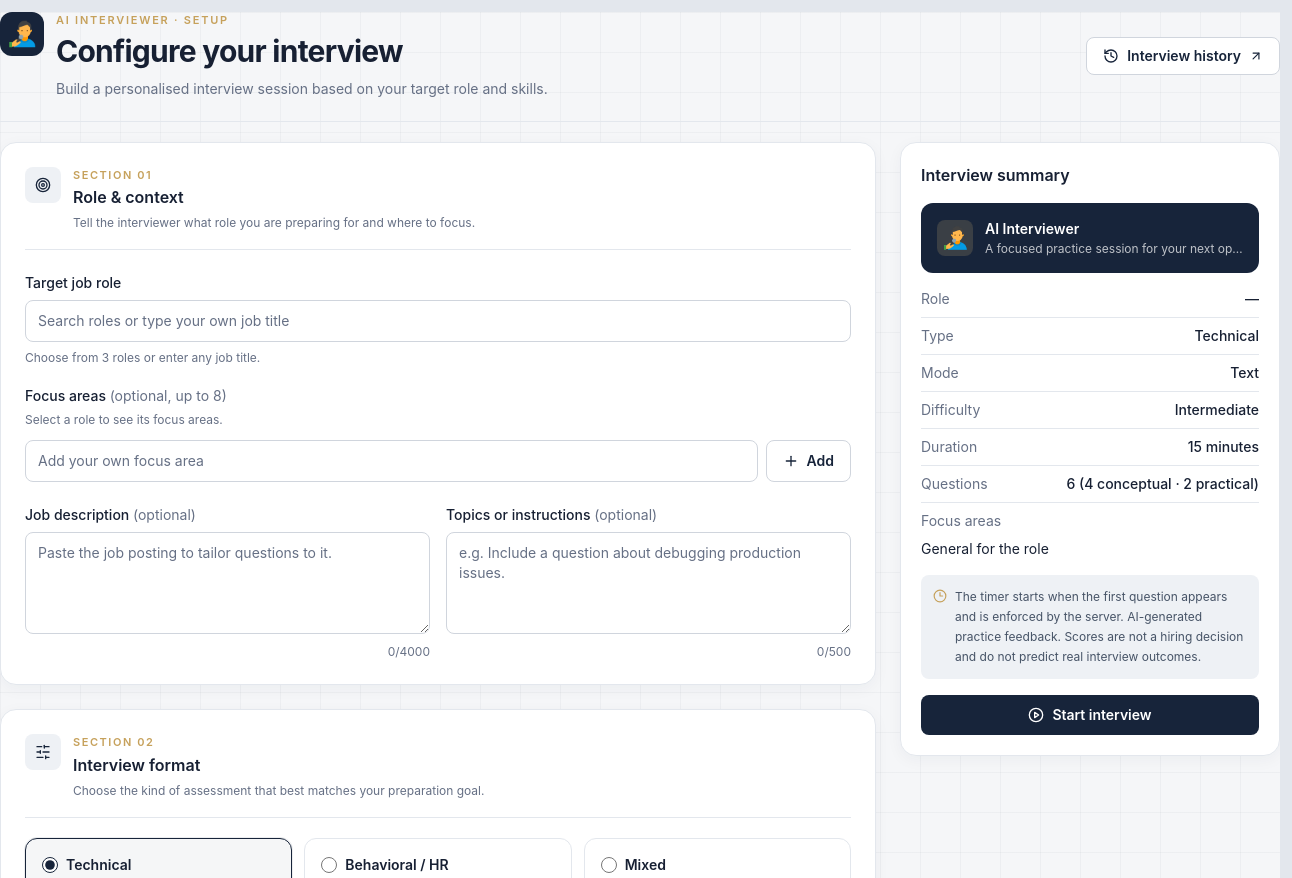
it: custom job titles are analysed on their own terms
The width and height of the screenshot is (1292, 878).
Type "Blockchain Developer" into the field labelled "Target job role" at (438, 321), box [25, 300, 851, 342]
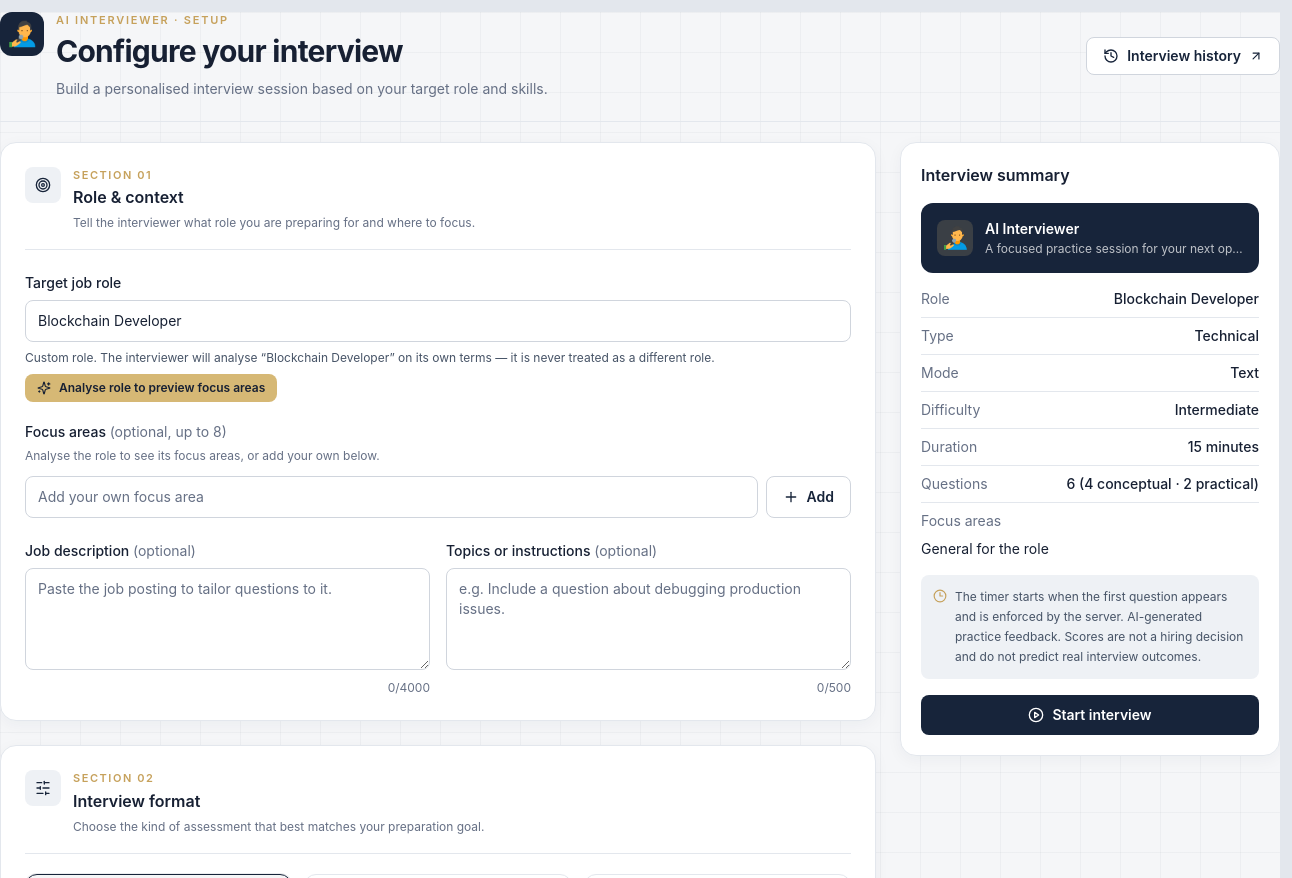
Check: the text "Custom role" is shown, box [25, 350, 266, 365]
Check: the text "never treated as a different role" is shown, box [389, 350, 715, 365]
Click the button "Analyse role to preview focus areas" at (151, 388), box [25, 374, 277, 402]
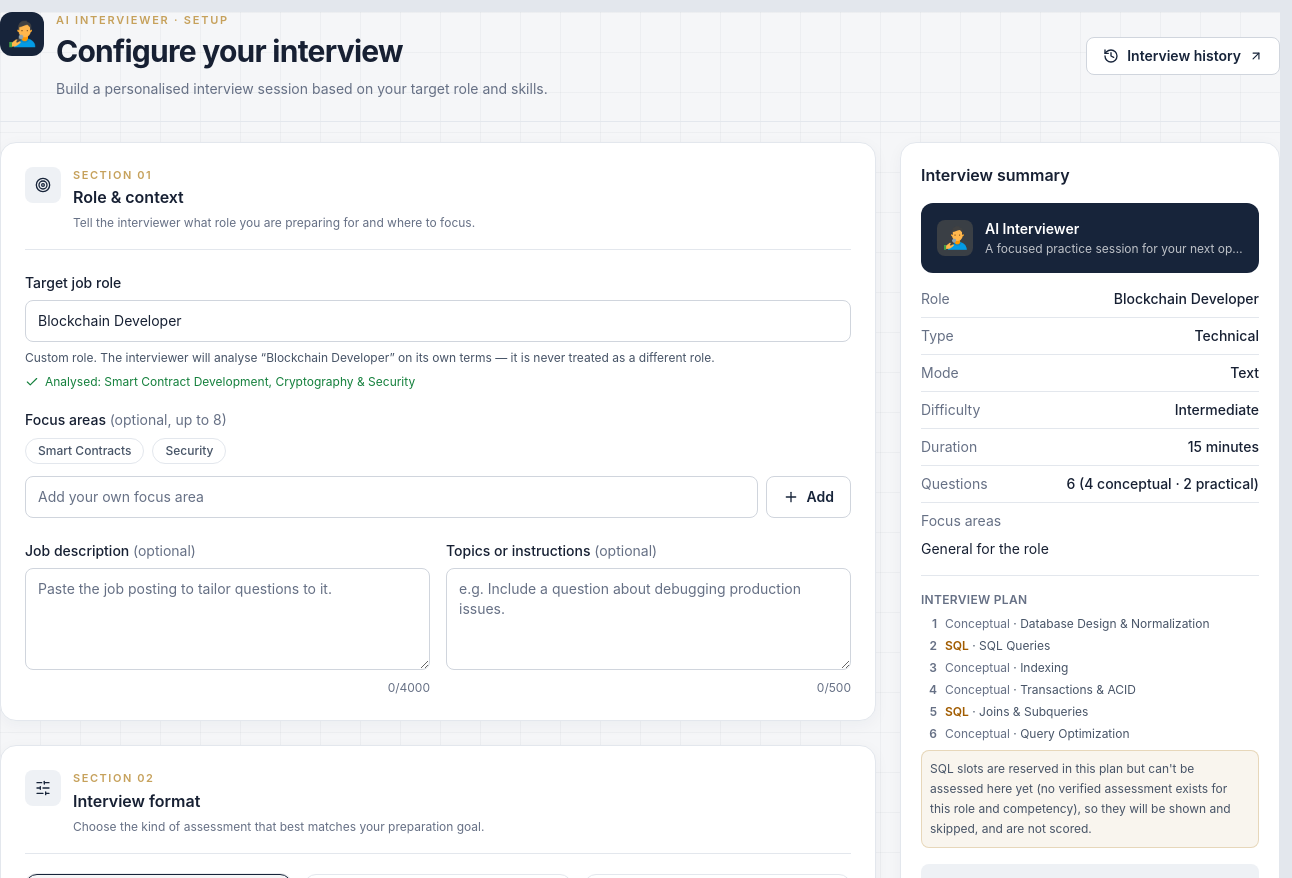
Check: the text "Analysed: Smart Contract Development, Cryptography & Security" is shown, box [25, 374, 415, 389]
Check: the button "Smart Contracts" is shown, box [25, 438, 144, 464]
